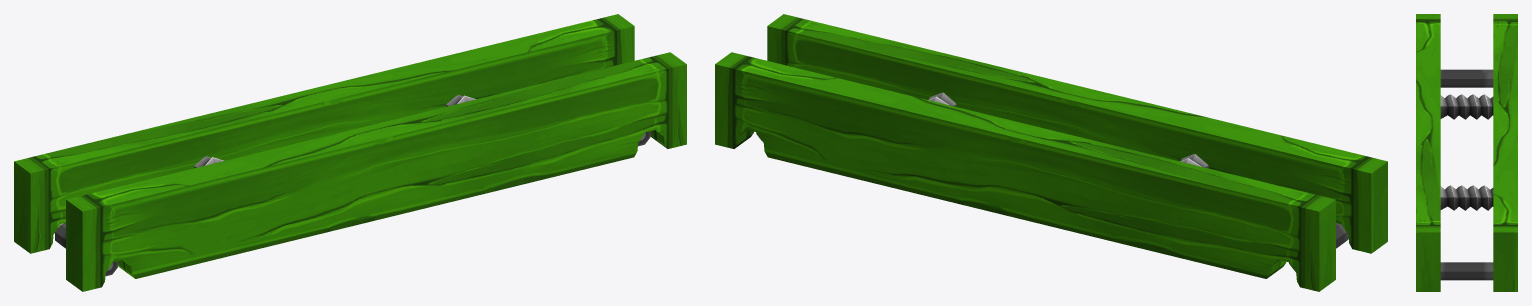
The model's file is dynamic_fence_green_04.fbx.
The picture shows the model from 3 angles, left to right: view 1: azimuth 30°, elevation 25°; view 2: azimuth 150°, elevation 25°; view 3: azimuth 270°, elevation 25°; orthographic projection. The views are drawn at different scales.
Visible parts, largest first — view 1: front_wall_12, back_wall_7; view 2: back_wall_7, front_wall_12; view 3: back_wall_7, front_wall_12, spring_16, spring_17.
Part boxes in pixels (x1,y1,x2,y2): front_wall_12: (66, 52, 686, 291); back_wall_7: (14, 14, 650, 276); back_wall_7: (715, 52, 1348, 291); front_wall_12: (767, 14, 1387, 253); back_wall_7: (1440, 14, 1517, 291); front_wall_12: (1416, 14, 1440, 291); spring_16: (1440, 94, 1493, 119); spring_17: (1440, 185, 1493, 210).
Size of the model in its own units: 315 by 40 by 62.14.
